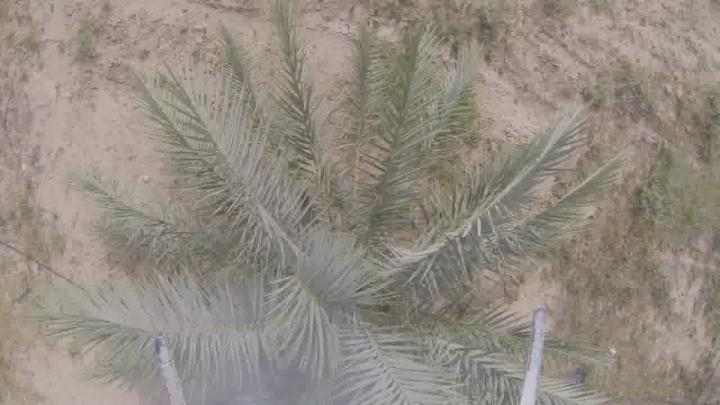Date-Palm-Crown: (203, 157, 469, 405)
